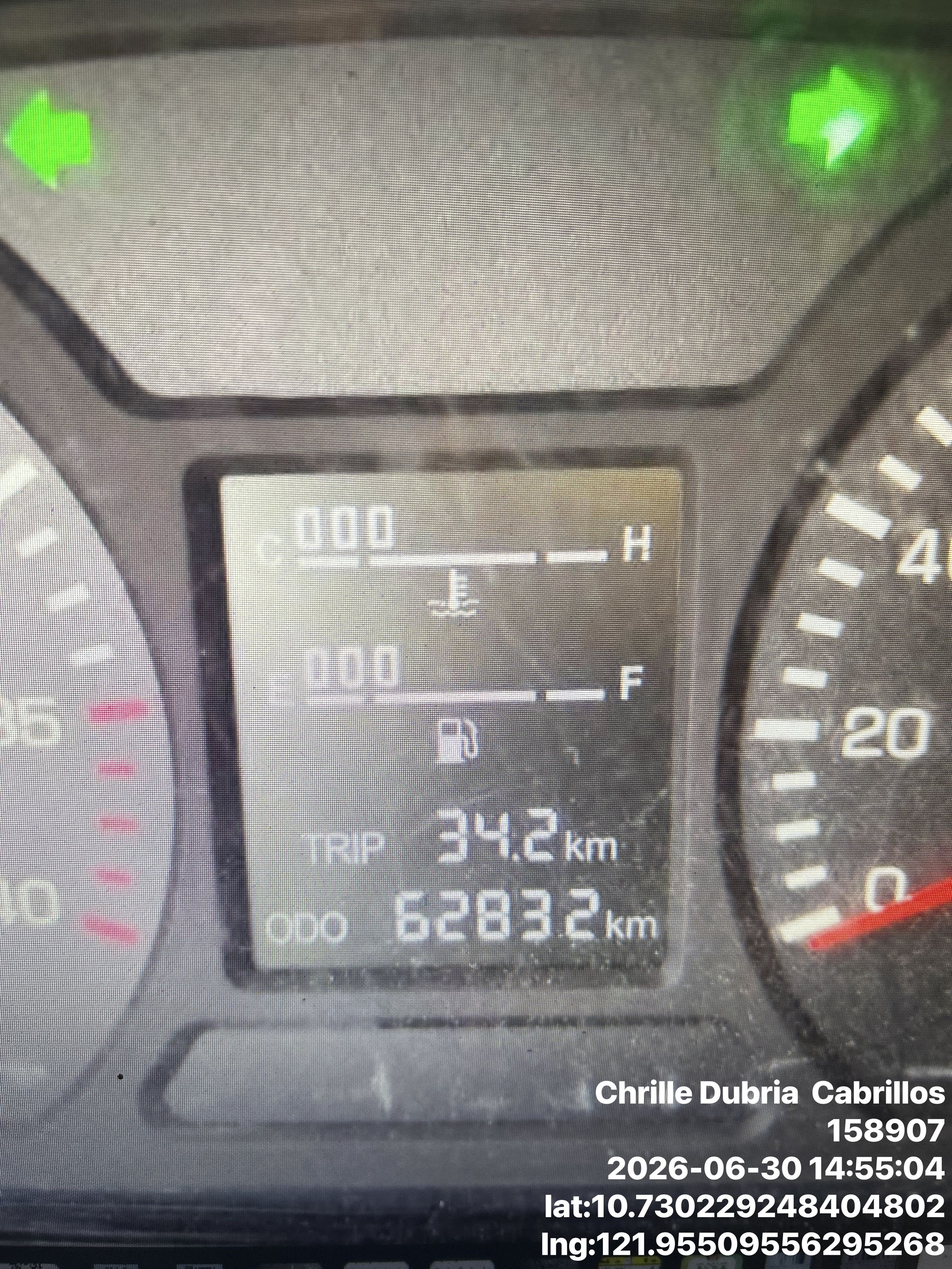grid_pose: (307, 144, 603, 706)
